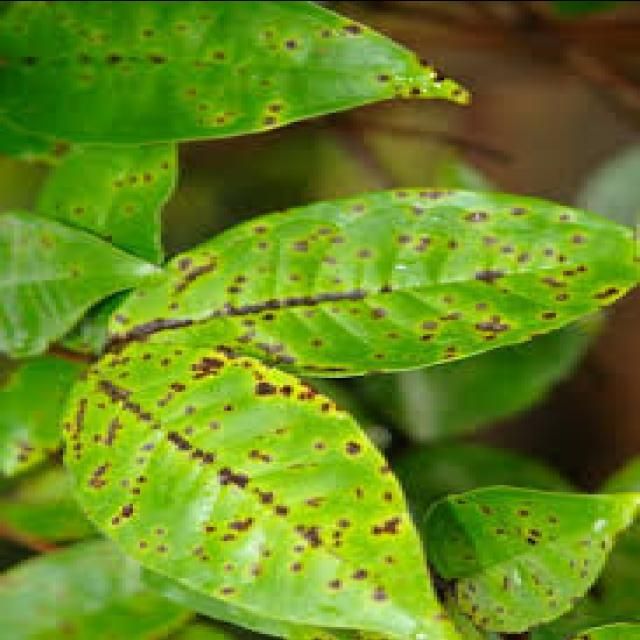bercak_daun: (46, 336, 442, 638)
